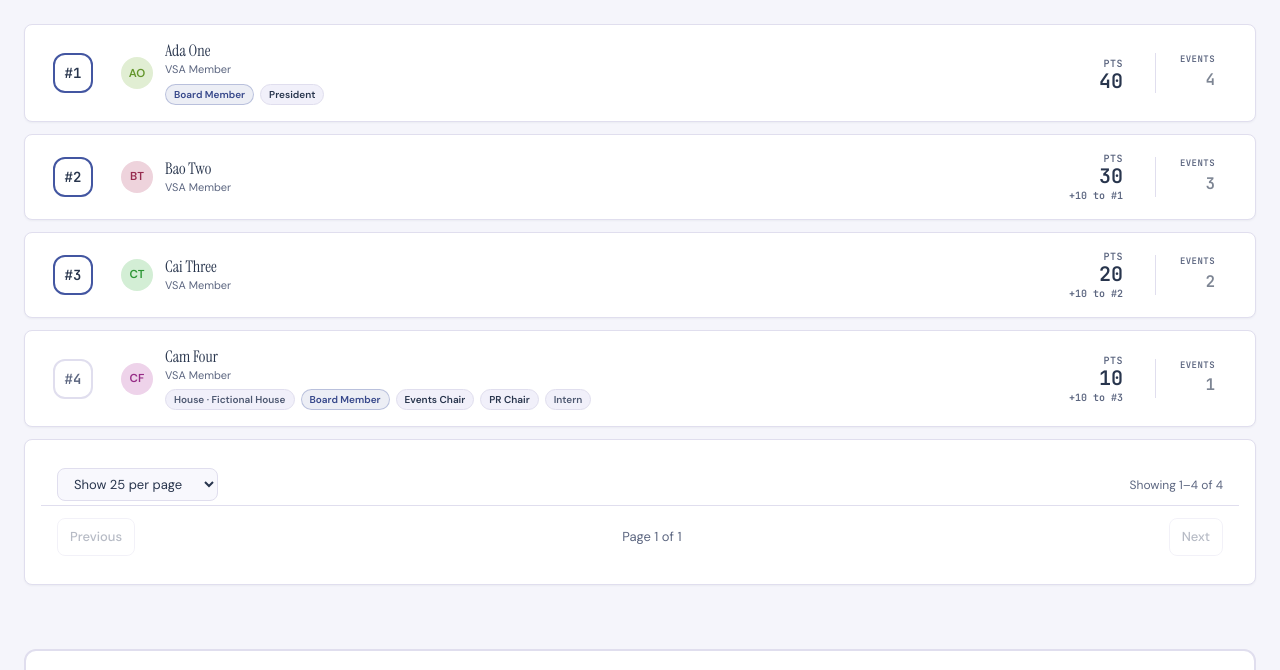
Test: rank 4+ modal House and role navigation (#627) › has one year-correct House link in the modal but no nested link in a row
The width and height of the screenshot is (1280, 670).
(page scrolled)
Click the button with aria-label "Open profile for Cam Four" at [191, 357], box [165,347,218,367]
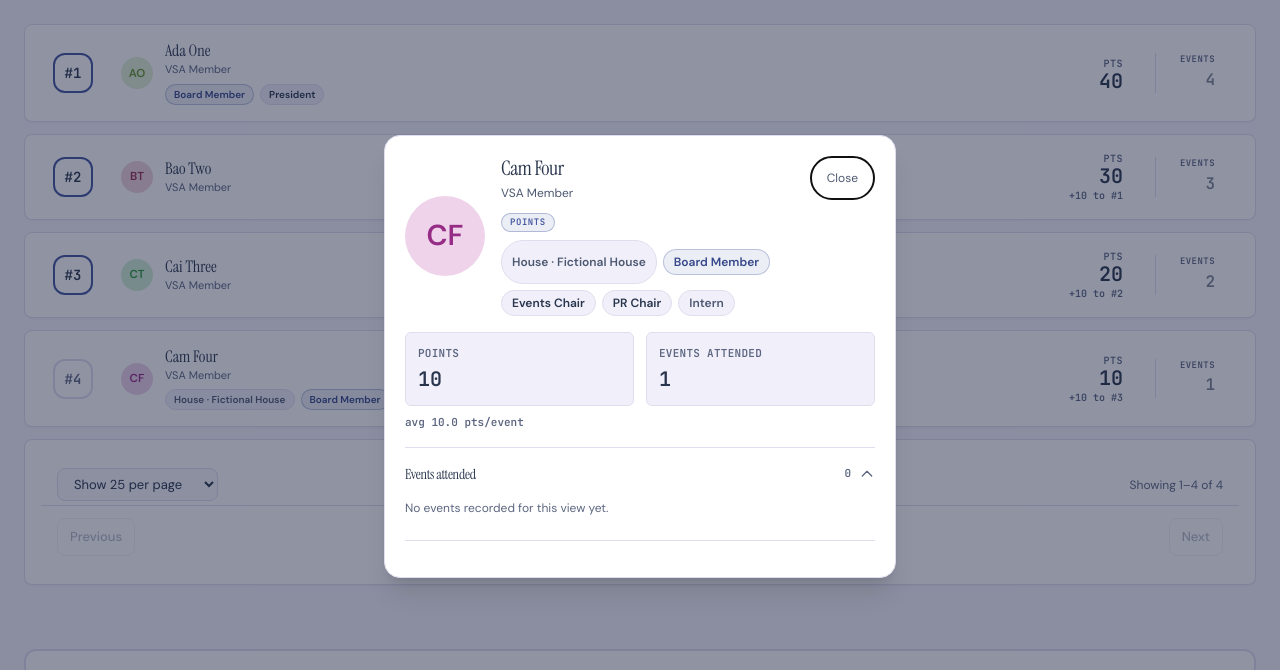
Result: the link "House · Fictional House" is shown at [501,240,657,284]
Result: the text "10" is shown at [418,366,442,392]
